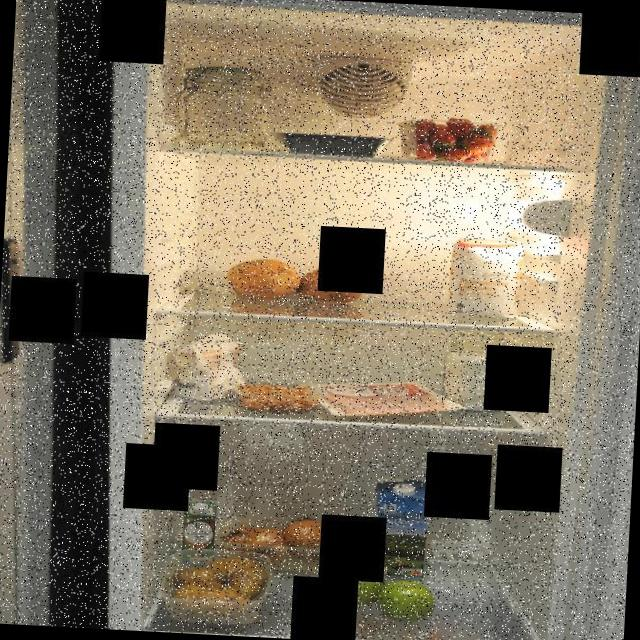Carne cerdo: (309, 376, 471, 424)
Cebolla: (213, 512, 338, 574)
Gambas/Langostinos: (234, 381, 322, 424)
Leche: (372, 474, 433, 582)
Manzana: (326, 562, 441, 626)
Patata: (169, 546, 273, 622)
